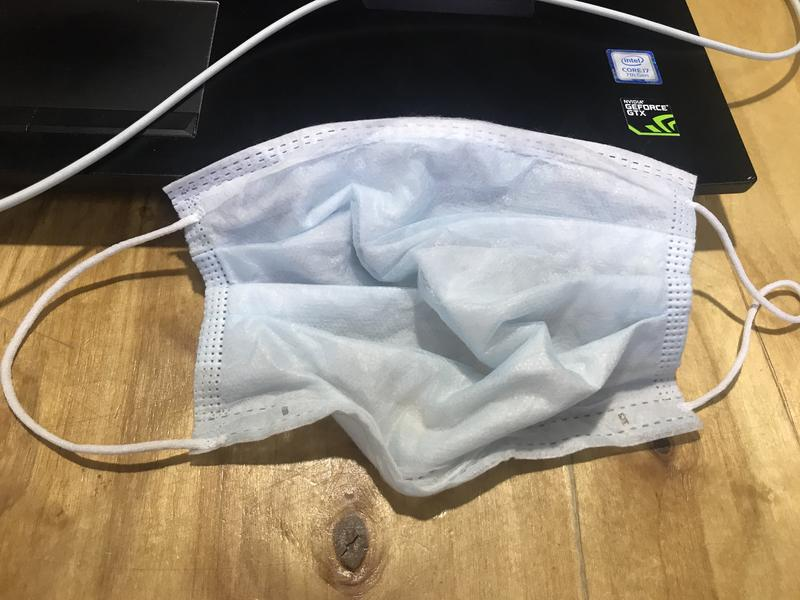medical_mask: (1, 115, 800, 498)
